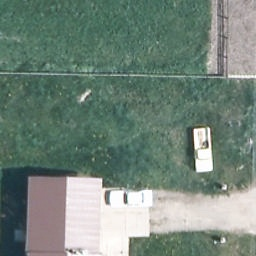car: (109, 190, 155, 208)
pickup: (192, 128, 215, 172)
